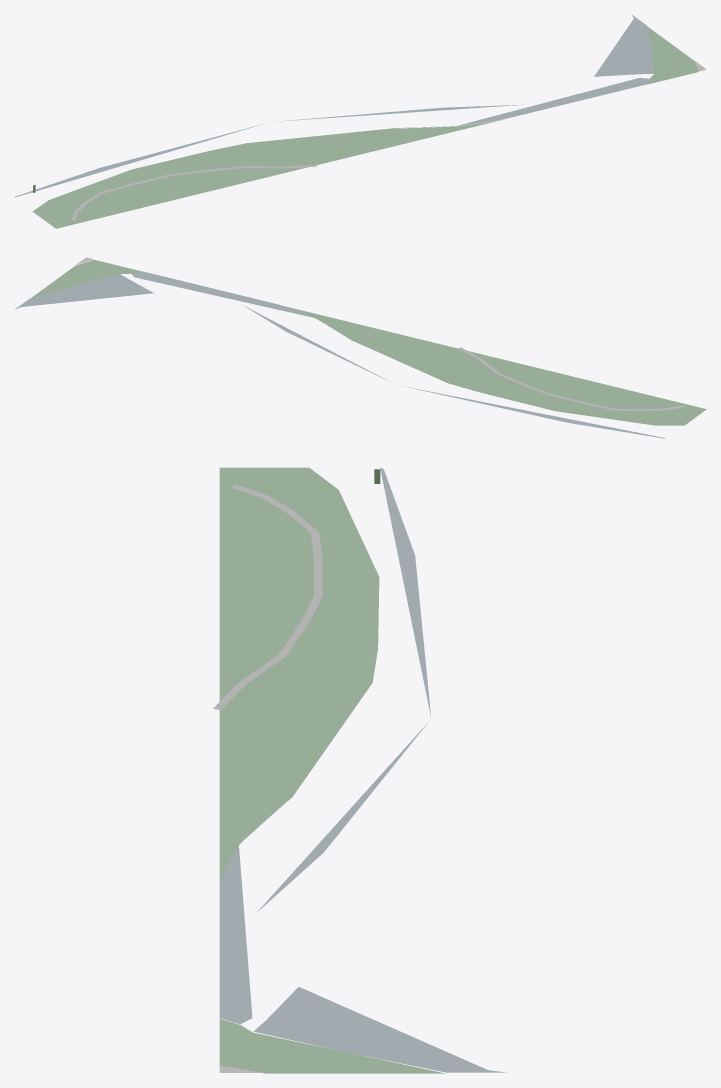
3 views of the same model, one above another, from view 1: azimuth 30°, elevation 25°; view 2: azimuth 150°, elevation 25°; view 3: azimuth 270°, elevation 25° (orthographic). The views are drawn at different scales.
Size of the model in its own units: 500 by 6.42 by 103.
